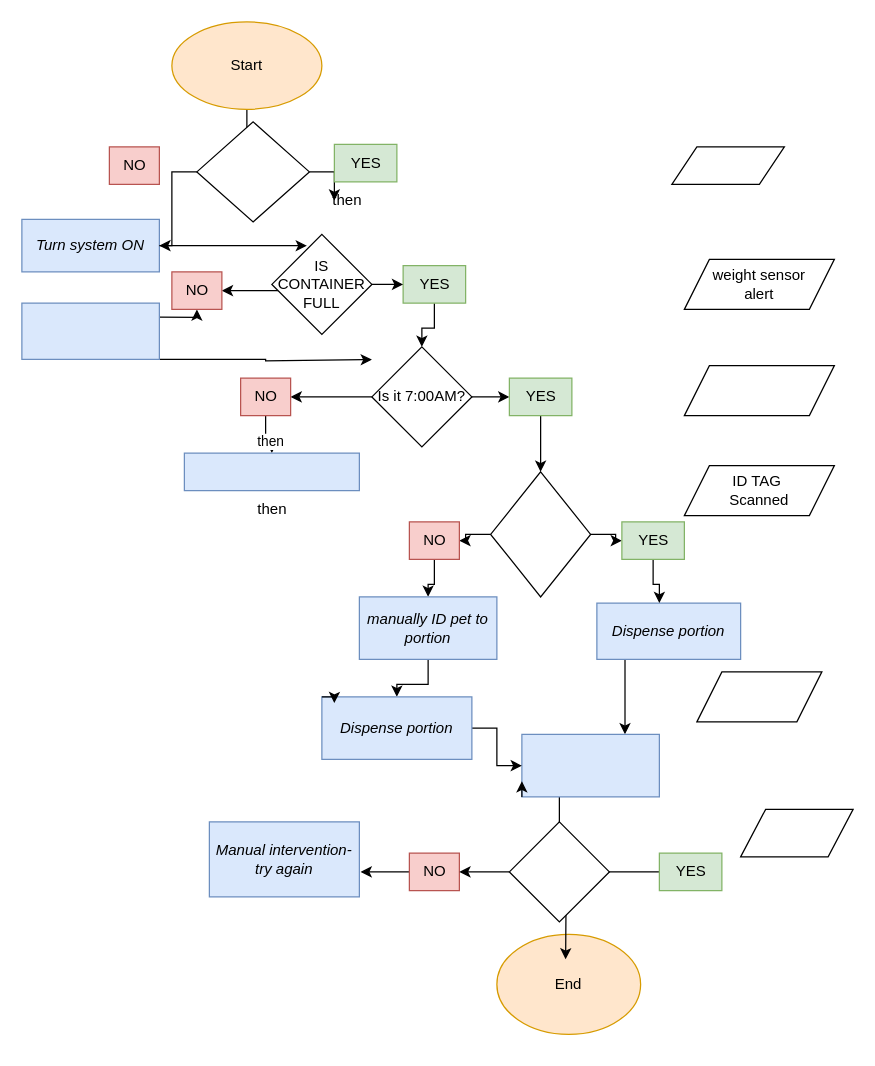
Some shapes in this 875 by 1066 pixel diagram are drawn without their labels. Each missing label, with the box of its shape:
Clock timer alarm: (683, 364, 834, 416)
HAS PET EATEN?: (508, 821, 609, 922)
IS PET IDENTIFIED?: (489, 471, 591, 597)
IS SYSTEM ON?: (196, 121, 309, 222)
LED ON: (671, 146, 784, 184)
refill container: (21, 302, 159, 359)
Servo motor gate opens: (696, 671, 822, 722)
wait 5 minutes: (521, 733, 659, 797)
WAIT til 19:00: (183, 452, 359, 491)
weight bowl sensor: (739, 808, 853, 857)
